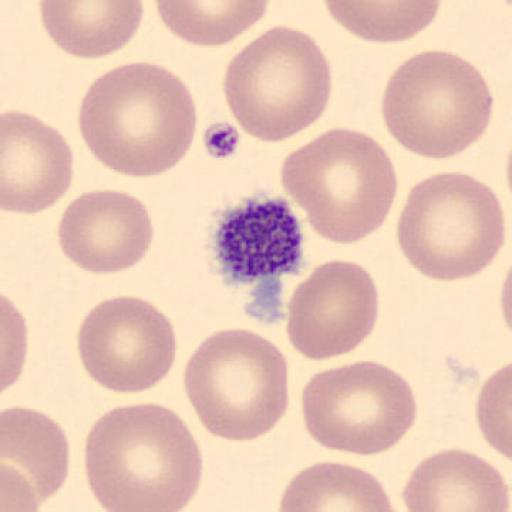Platelet: (206, 193, 309, 285)
RBC: (278, 125, 400, 247), (76, 60, 198, 180), (82, 399, 205, 512), (222, 24, 334, 144), (380, 48, 496, 161), (181, 326, 291, 443), (396, 168, 506, 282), (300, 358, 418, 458), (76, 295, 180, 395), (286, 257, 381, 362), (56, 187, 154, 277), (2, 108, 75, 216), (400, 445, 511, 512), (2, 404, 71, 507), (38, 0, 145, 61), (277, 460, 399, 512), (154, 0, 271, 48), (320, 0, 442, 44), (475, 360, 512, 462), (1, 292, 29, 396), (0, 464, 40, 512), (499, 258, 512, 336)
